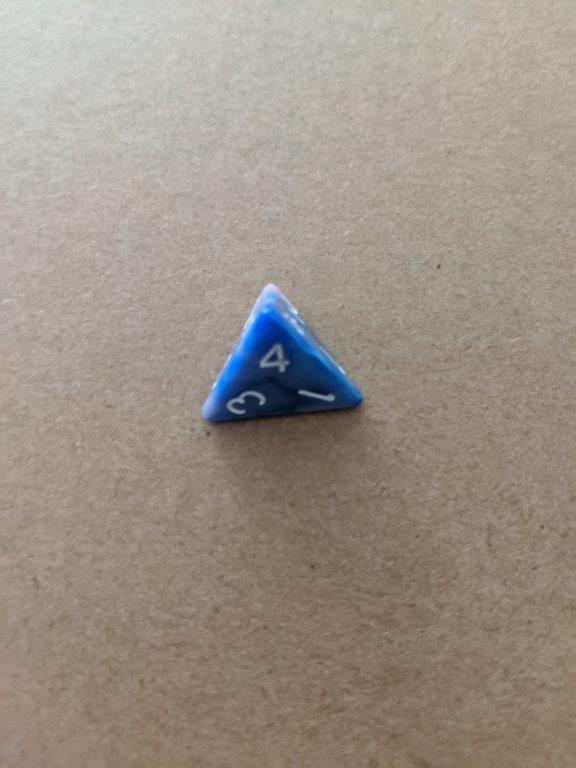d4-4: (196, 280, 368, 426)
